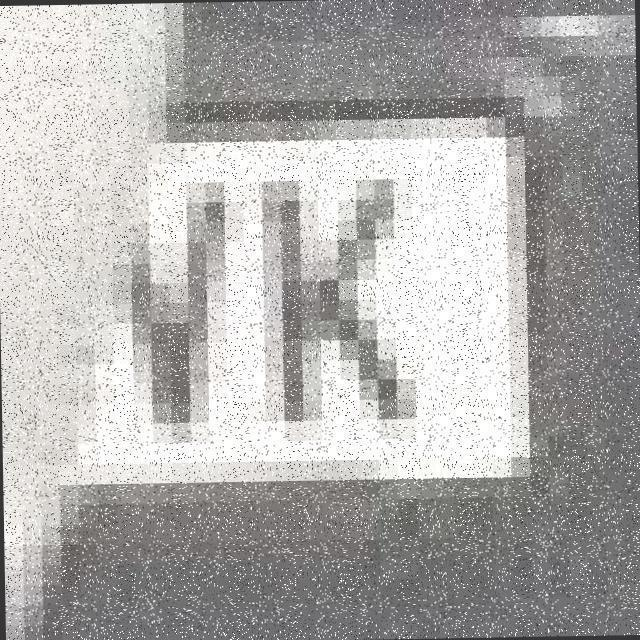License Plate: (87, 60, 546, 494)
